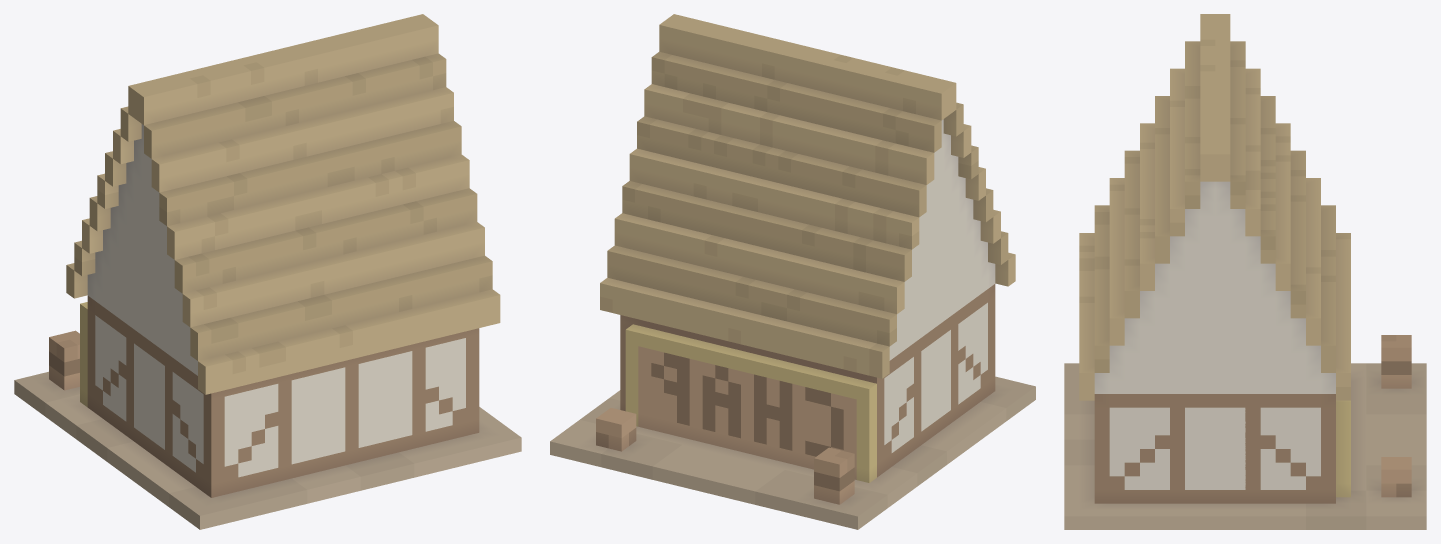
The model's file is chapel.glb.
The picture shows the model from 3 angles, left to right: view 1: azimuth 30°, elevation 25°; view 2: azimuth 150°, elevation 25°; view 3: azimuth 270°, elevation 25°; orthographic projection. The views are drawn at different scales.
Visible parts, largest first — view 1: chapel; view 2: chapel; view 3: chapel.
Boxes of the visible parts, left/top/right/bottom form: chapel: left=14, top=14, right=521, bottom=529; chapel: left=550, top=14, right=1035, bottom=529; chapel: left=1064, top=14, right=1426, bottom=529.
Bounding box in the file's own units: 3 × 3.38 × 3.
